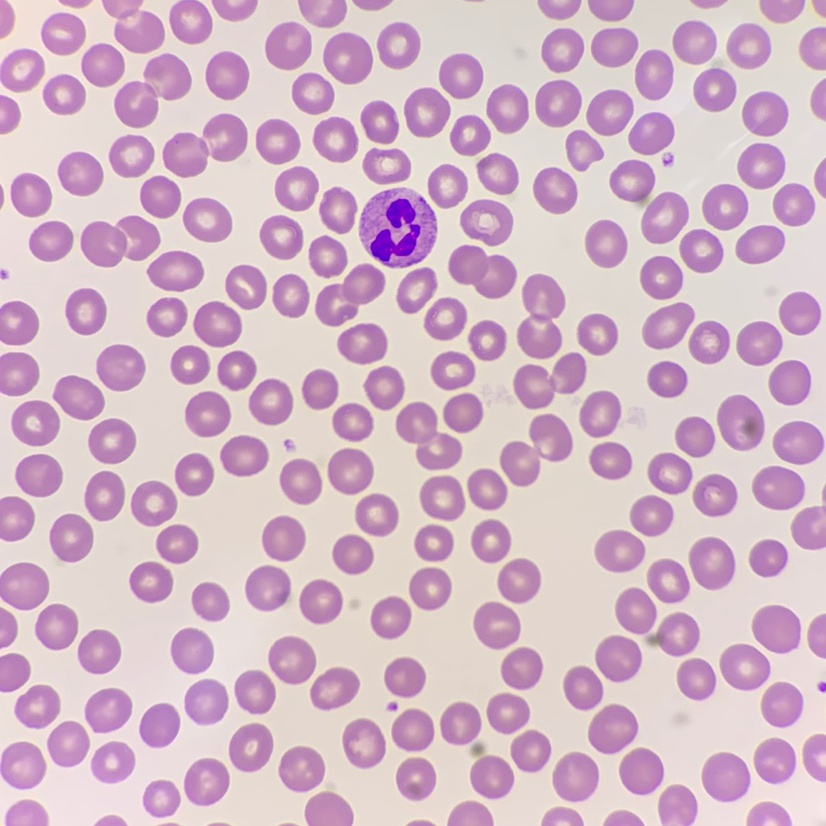RBC: (440, 702, 513, 798), (610, 160, 688, 243), (360, 188, 436, 267), (616, 588, 699, 655), (115, 54, 190, 127), (163, 114, 247, 176), (500, 414, 572, 485), (396, 402, 461, 469), (316, 264, 384, 325), (514, 353, 585, 408), (517, 275, 564, 358), (81, 216, 159, 266), (449, 246, 515, 298), (103, 0, 164, 52), (717, 395, 763, 450), (324, 33, 372, 83), (588, 705, 637, 753), (689, 537, 734, 589), (461, 200, 512, 245), (702, 753, 749, 801), (643, 303, 693, 348), (752, 466, 804, 509), (752, 605, 799, 652), (0, 563, 48, 609), (720, 644, 769, 689), (404, 88, 449, 136), (553, 752, 598, 800), (773, 421, 823, 464), (148, 251, 203, 290), (535, 80, 581, 126), (269, 637, 315, 683), (97, 345, 144, 390), (184, 758, 229, 805), (54, 376, 103, 419), (738, 143, 784, 188), (474, 602, 519, 648), (595, 636, 641, 681), (0, 742, 45, 788), (266, 22, 310, 69), (194, 302, 241, 346), (12, 401, 59, 445), (183, 198, 231, 241), (229, 723, 272, 771), (343, 719, 385, 768), (587, 90, 632, 135), (702, 184, 747, 229), (328, 449, 373, 494), (279, 746, 324, 791), (89, 419, 135, 463), (85, 688, 131, 732), (619, 748, 663, 794), (50, 514, 93, 561), (595, 530, 644, 571), (131, 481, 176, 525), (736, 322, 782, 365), (206, 52, 248, 99), (311, 667, 358, 709), (185, 392, 229, 436), (420, 476, 464, 520), (246, 566, 290, 610), (249, 379, 292, 424), (16, 454, 62, 496), (487, 85, 528, 132), (585, 220, 626, 267), (85, 471, 124, 520), (727, 24, 770, 68), (439, 54, 482, 98), (742, 92, 786, 135), (314, 117, 357, 161), (256, 119, 299, 163), (58, 152, 102, 195), (377, 23, 419, 68), (534, 168, 576, 213), (35, 604, 77, 649), (171, 628, 213, 673), (185, 679, 227, 724), (15, 685, 60, 727), (338, 324, 386, 363), (0, 49, 44, 91), (109, 135, 153, 177), (48, 721, 89, 766), (221, 436, 268, 475), (635, 50, 672, 99), (276, 167, 318, 210), (680, 229, 722, 272), (498, 559, 540, 602), (300, 580, 342, 623), (78, 630, 120, 673), (542, 28, 583, 72), (629, 113, 673, 154), (769, 360, 810, 404), (280, 459, 321, 503), (263, 516, 304, 560), (761, 682, 802, 726), (754, 738, 795, 782), (66, 289, 106, 334), (580, 391, 620, 436), (673, 21, 715, 63), (82, 44, 124, 86), (260, 216, 302, 258), (640, 256, 682, 298), (170, 0, 211, 43), (42, 13, 85, 54), (694, 68, 735, 111), (693, 474, 736, 515), (647, 559, 688, 602), (591, 28, 637, 66), (736, 226, 783, 263), (779, 292, 820, 334), (11, 173, 51, 216), (226, 265, 266, 308), (648, 453, 691, 493), (235, 670, 275, 713), (91, 742, 134, 782), (29, 221, 73, 260), (397, 268, 436, 312), (140, 703, 179, 747), (773, 184, 814, 225), (425, 298, 466, 339), (356, 494, 397, 535), (409, 568, 450, 609), (392, 709, 433, 750), (689, 321, 729, 363), (630, 495, 672, 535), (130, 562, 172, 602), (487, 693, 529, 733), (292, 73, 333, 113), (140, 176, 180, 217), (501, 648, 541, 689), (43, 75, 85, 114), (428, 165, 467, 207), (471, 520, 510, 562), (0, 301, 38, 344), (0, 352, 38, 395), (564, 666, 602, 709), (477, 154, 517, 194), (371, 597, 410, 638), (511, 730, 550, 771), (363, 149, 410, 183), (305, 791, 352, 825), (365, 367, 403, 409), (397, 758, 435, 800), (431, 352, 474, 389), (320, 188, 356, 232), (450, 115, 489, 155), (578, 314, 617, 354), (333, 535, 373, 574), (658, 785, 697, 825), (175, 454, 213, 495), (156, 525, 197, 563), (361, 101, 398, 143), (443, 393, 482, 432), (468, 469, 506, 509), (677, 659, 715, 699), (273, 274, 308, 317), (147, 298, 186, 336), (676, 417, 714, 456), (385, 658, 424, 696), (333, 403, 373, 440), (590, 442, 631, 478), (0, 497, 34, 540), (309, 237, 346, 276), (792, 506, 825, 549), (171, 346, 209, 383), (218, 351, 255, 389), (566, 131, 602, 170), (469, 321, 505, 360), (192, 583, 229, 620), (648, 361, 686, 397), (415, 525, 453, 560), (750, 540, 786, 576), (143, 780, 179, 816), (303, 370, 337, 408), (299, 0, 346, 27), (0, 654, 30, 691), (5, 800, 48, 825), (448, 801, 492, 825), (803, 734, 825, 781), (800, 28, 825, 69), (747, 802, 791, 825), (760, 0, 803, 22), (588, 0, 633, 21), (213, 0, 256, 20), (538, 0, 580, 19), (542, 807, 582, 825), (808, 615, 825, 657), (0, 96, 19, 133), (0, 609, 17, 646), (811, 81, 825, 118), (605, 811, 641, 825), (0, 0, 13, 36), (355, 0, 389, 10), (815, 162, 825, 195), (98, 816, 124, 825), (695, 0, 722, 7), (813, 0, 825, 15), (63, 0, 87, 7), (675, 714, 684, 723), (412, 821, 428, 825)
